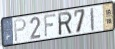2: (29, 16, 41, 41)
7: (74, 8, 87, 34)
F: (43, 13, 57, 39)
I: (89, 6, 95, 32)
P: (14, 17, 27, 43)
R: (57, 11, 73, 37)
